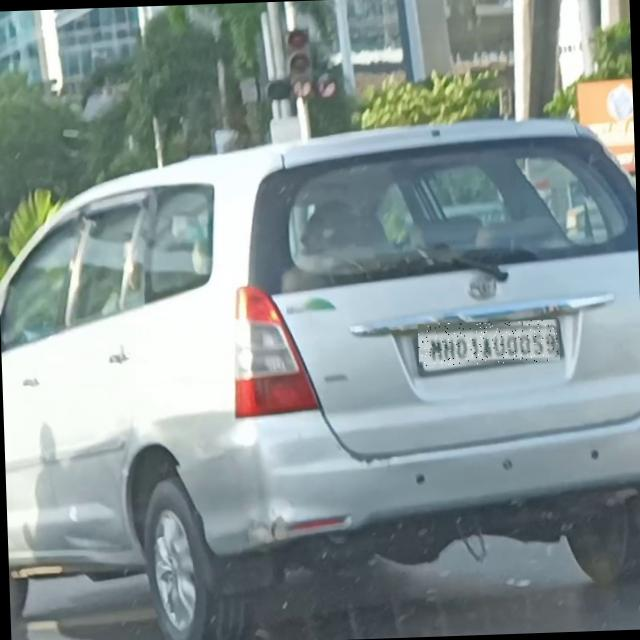Plate: (419, 320, 561, 367)
